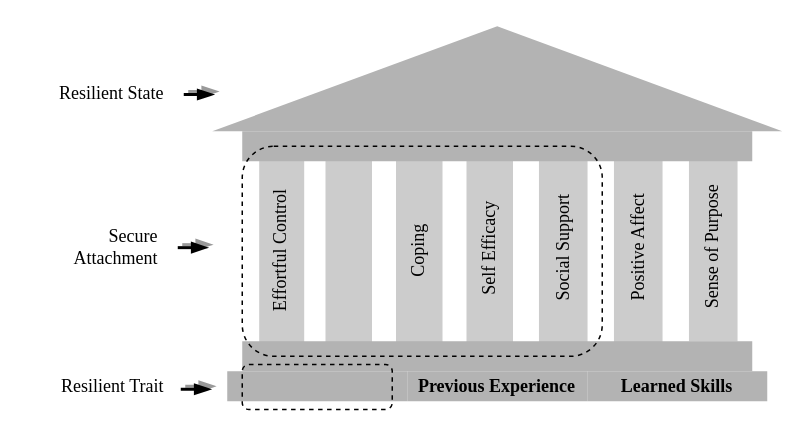
This 807x435 diagram has some shape labels left out. The box of each missing label's shape, as (x1, y1, x2, y2) in pixels:
Emotion Regulation: (325, 149, 371, 342)
Personality: (226, 370, 406, 400)
RESILIENCE: (212, 26, 782, 130)
